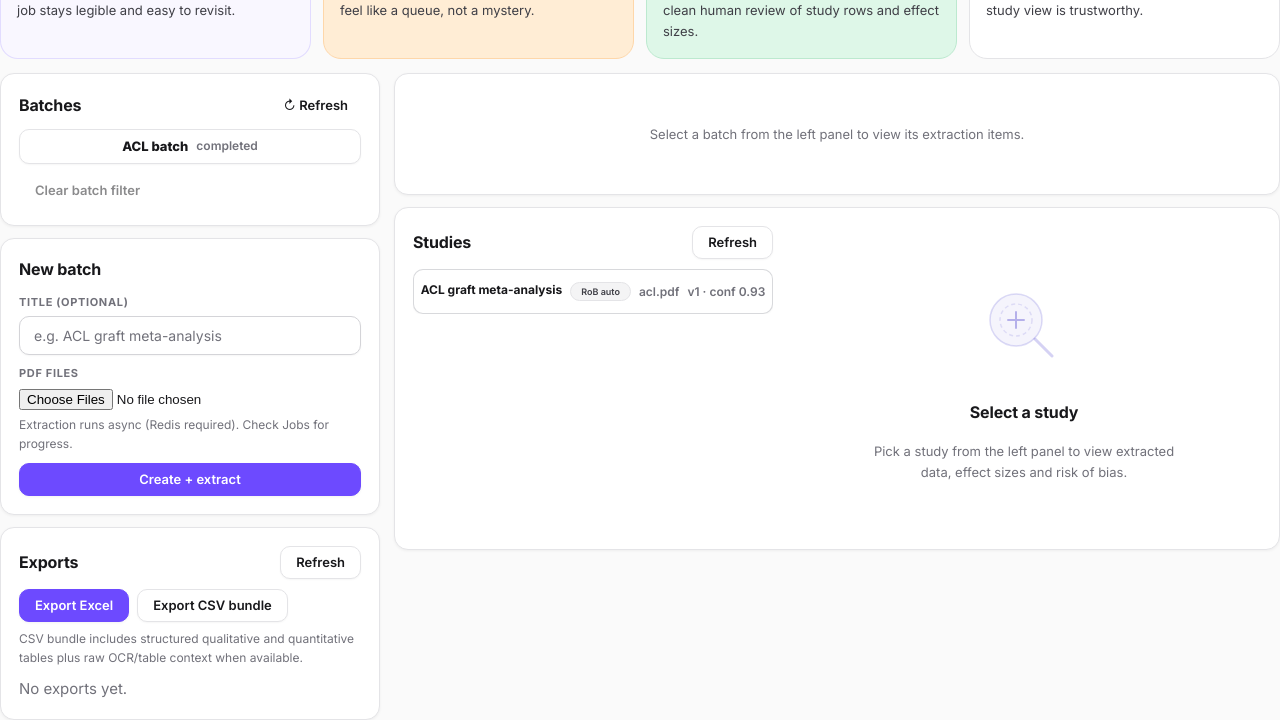
MetaPage › exports CSV bundle without errors
This screenshot has width=1280, height=720.
(page scrolled)
Step 1. Click the button "Export CSV bundle" → x=212, y=606, box [137,589,288,622]
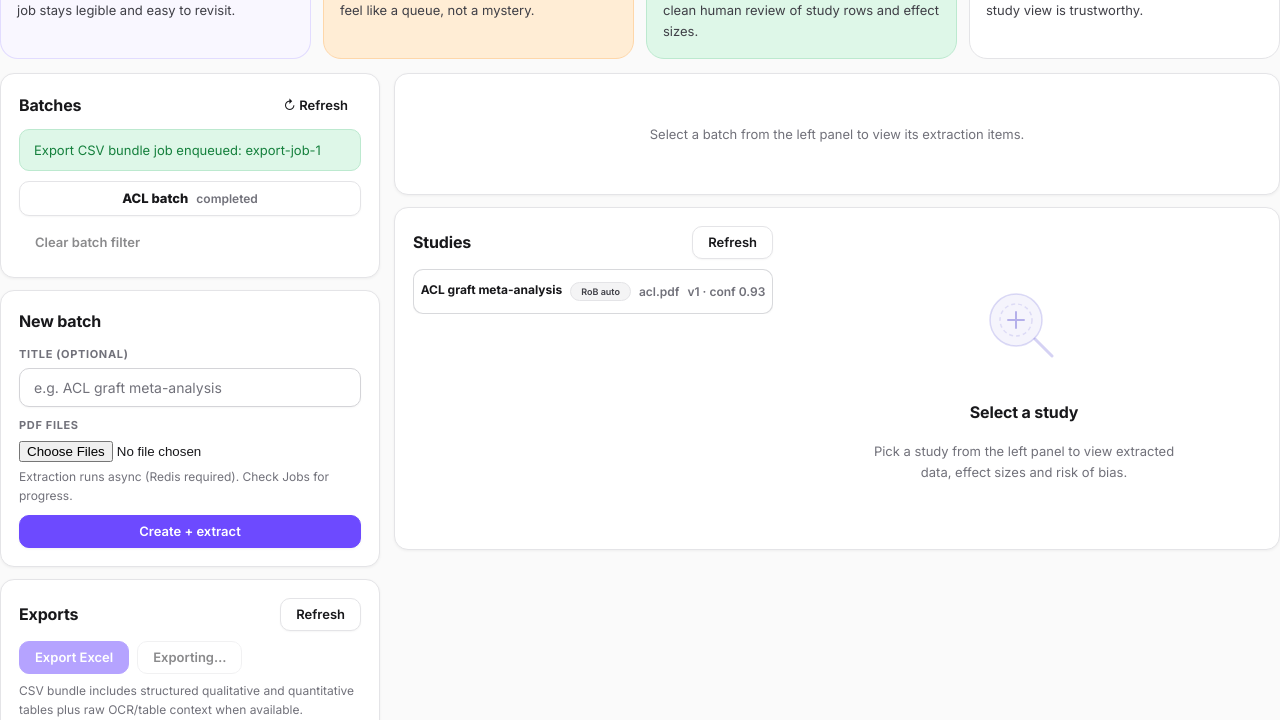
Expected: the text "Export CSV bundle job enqueued: export-job-1" is shown, [19,129,361,171]
